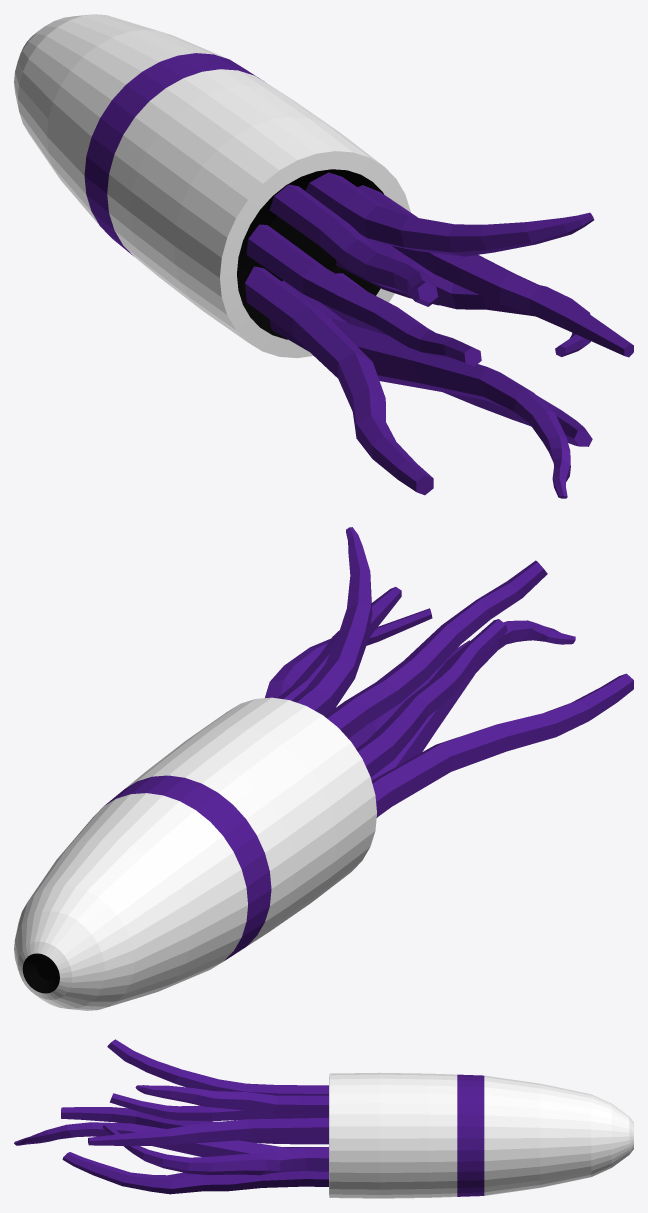
File: squid_bot.fbx
3 views of the same model, one above another, from view 1: azimuth 30°, elevation 25°; view 2: azimuth 150°, elevation 25°; view 3: azimuth 270°, elevation 25° (orthographic). The views are drawn at different scales.
Visible parts, largest first — view 1: Cylinder, Cylinder.002, Cylinder.008, Cylinder.005, Cylinder.003, Cylinder.001, Cylinder.004, Cylinder.006, Cylinder.007; view 2: Cylinder, Cylinder.002, Cylinder.004, Cylinder.005, Cylinder.003, Cylinder.008, Cylinder.006, Cylinder.001, Cylinder.007; view 3: Cylinder, Cylinder.007, Cylinder.001, Cylinder.006, Cylinder.005, Cylinder.008, Cylinder.004, Cylinder.002, Cylinder.003.
Part boxes in pixels (<box>): Cylinder: <box>14,14,410,358</box>; Cylinder.002: <box>245,266,433,495</box>; Cylinder.008: <box>269,280,570,498</box>; Cylinder.005: <box>305,172,594,256</box>; Cylinder.003: <box>246,224,481,366</box>; Cylinder.001: <box>357,185,633,357</box>; Cylinder.004: <box>269,184,438,306</box>; Cylinder.006: <box>336,235,590,356</box>; Cylinder.007: <box>321,273,592,446</box>; Cylinder: <box>14,697,376,1010</box>; Cylinder.002: <box>371,673,633,817</box>; Cylinder.004: <box>324,560,547,738</box>; Cylinder.005: <box>291,527,372,715</box>; Cylinder.003: <box>356,619,507,777</box>; Cylinder.008: <box>371,620,575,817</box>; Cylinder.006: <box>265,608,432,698</box>; Cylinder.001: <box>277,587,401,700</box>; Cylinder.007: <box>349,640,469,748</box>; Cylinder: <box>329,1072,633,1198</box>; Cylinder.007: <box>62,1152,328,1194</box>; Cylinder.001: <box>88,1117,328,1145</box>; Cylinder.006: <box>102,1123,328,1175</box>; Cylinder.005: <box>135,1085,328,1116</box>; Cylinder.008: <box>14,1122,323,1156</box>; Cylinder.004: <box>107,1039,328,1095</box>; Cylinder.002: <box>61,1107,328,1144</box>; Cylinder.003: <box>109,1093,328,1121</box>.
Size of the model in its own units: 168 by 143 by 590.
